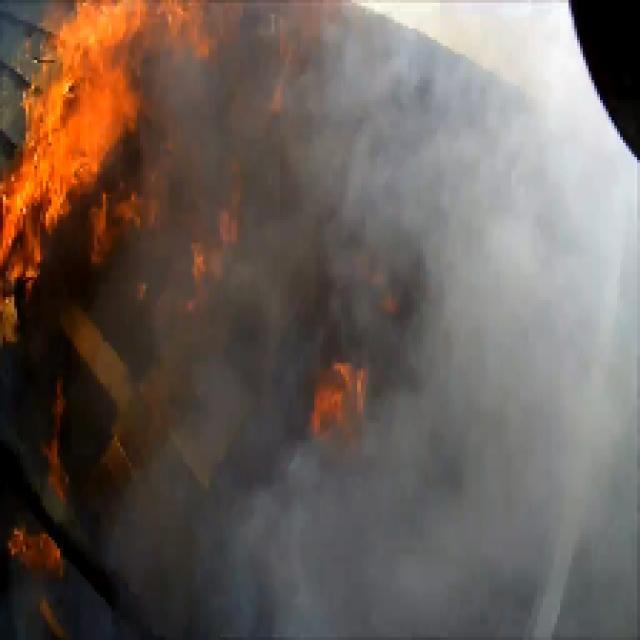Fire: (34, 17, 119, 166)
Smoke: (414, 162, 636, 640), (308, 20, 570, 156)
